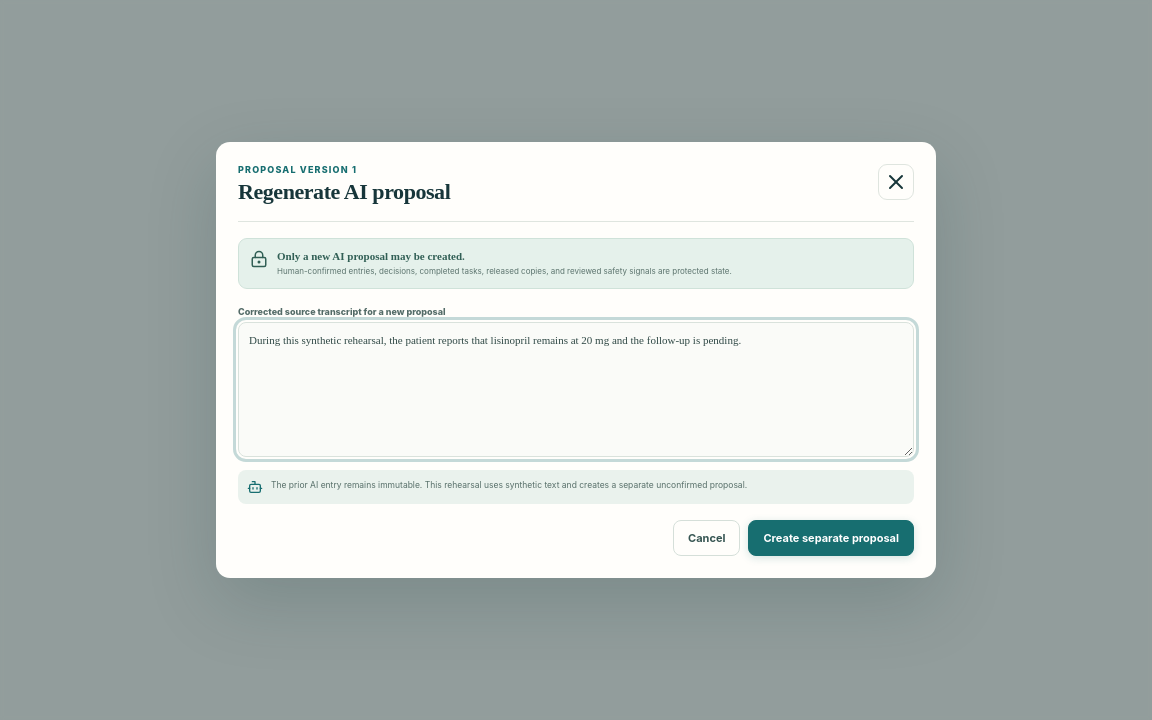
it: opaque regeneration failures use the fail-closed message
The image size is (1152, 720).
Click the button "Create separate proposal". click: (831, 538)
box: [748,520,914,556]
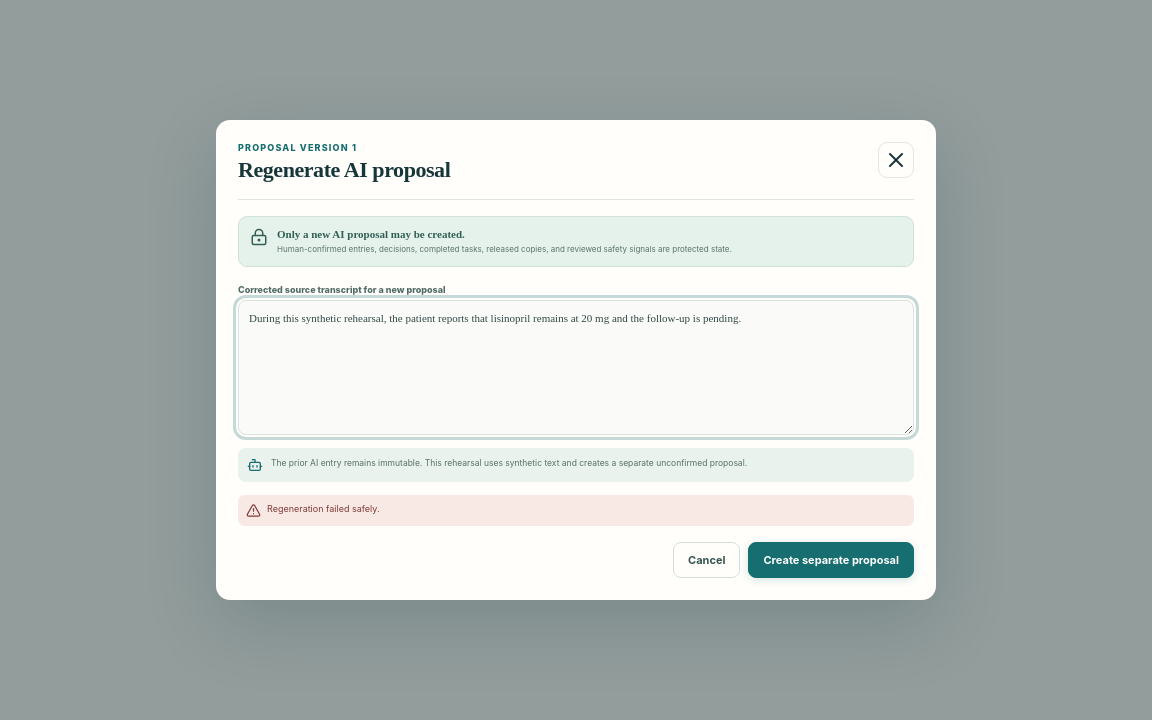
Expected: the text "Regeneration failed safely." is shown, [238,495,914,526]
